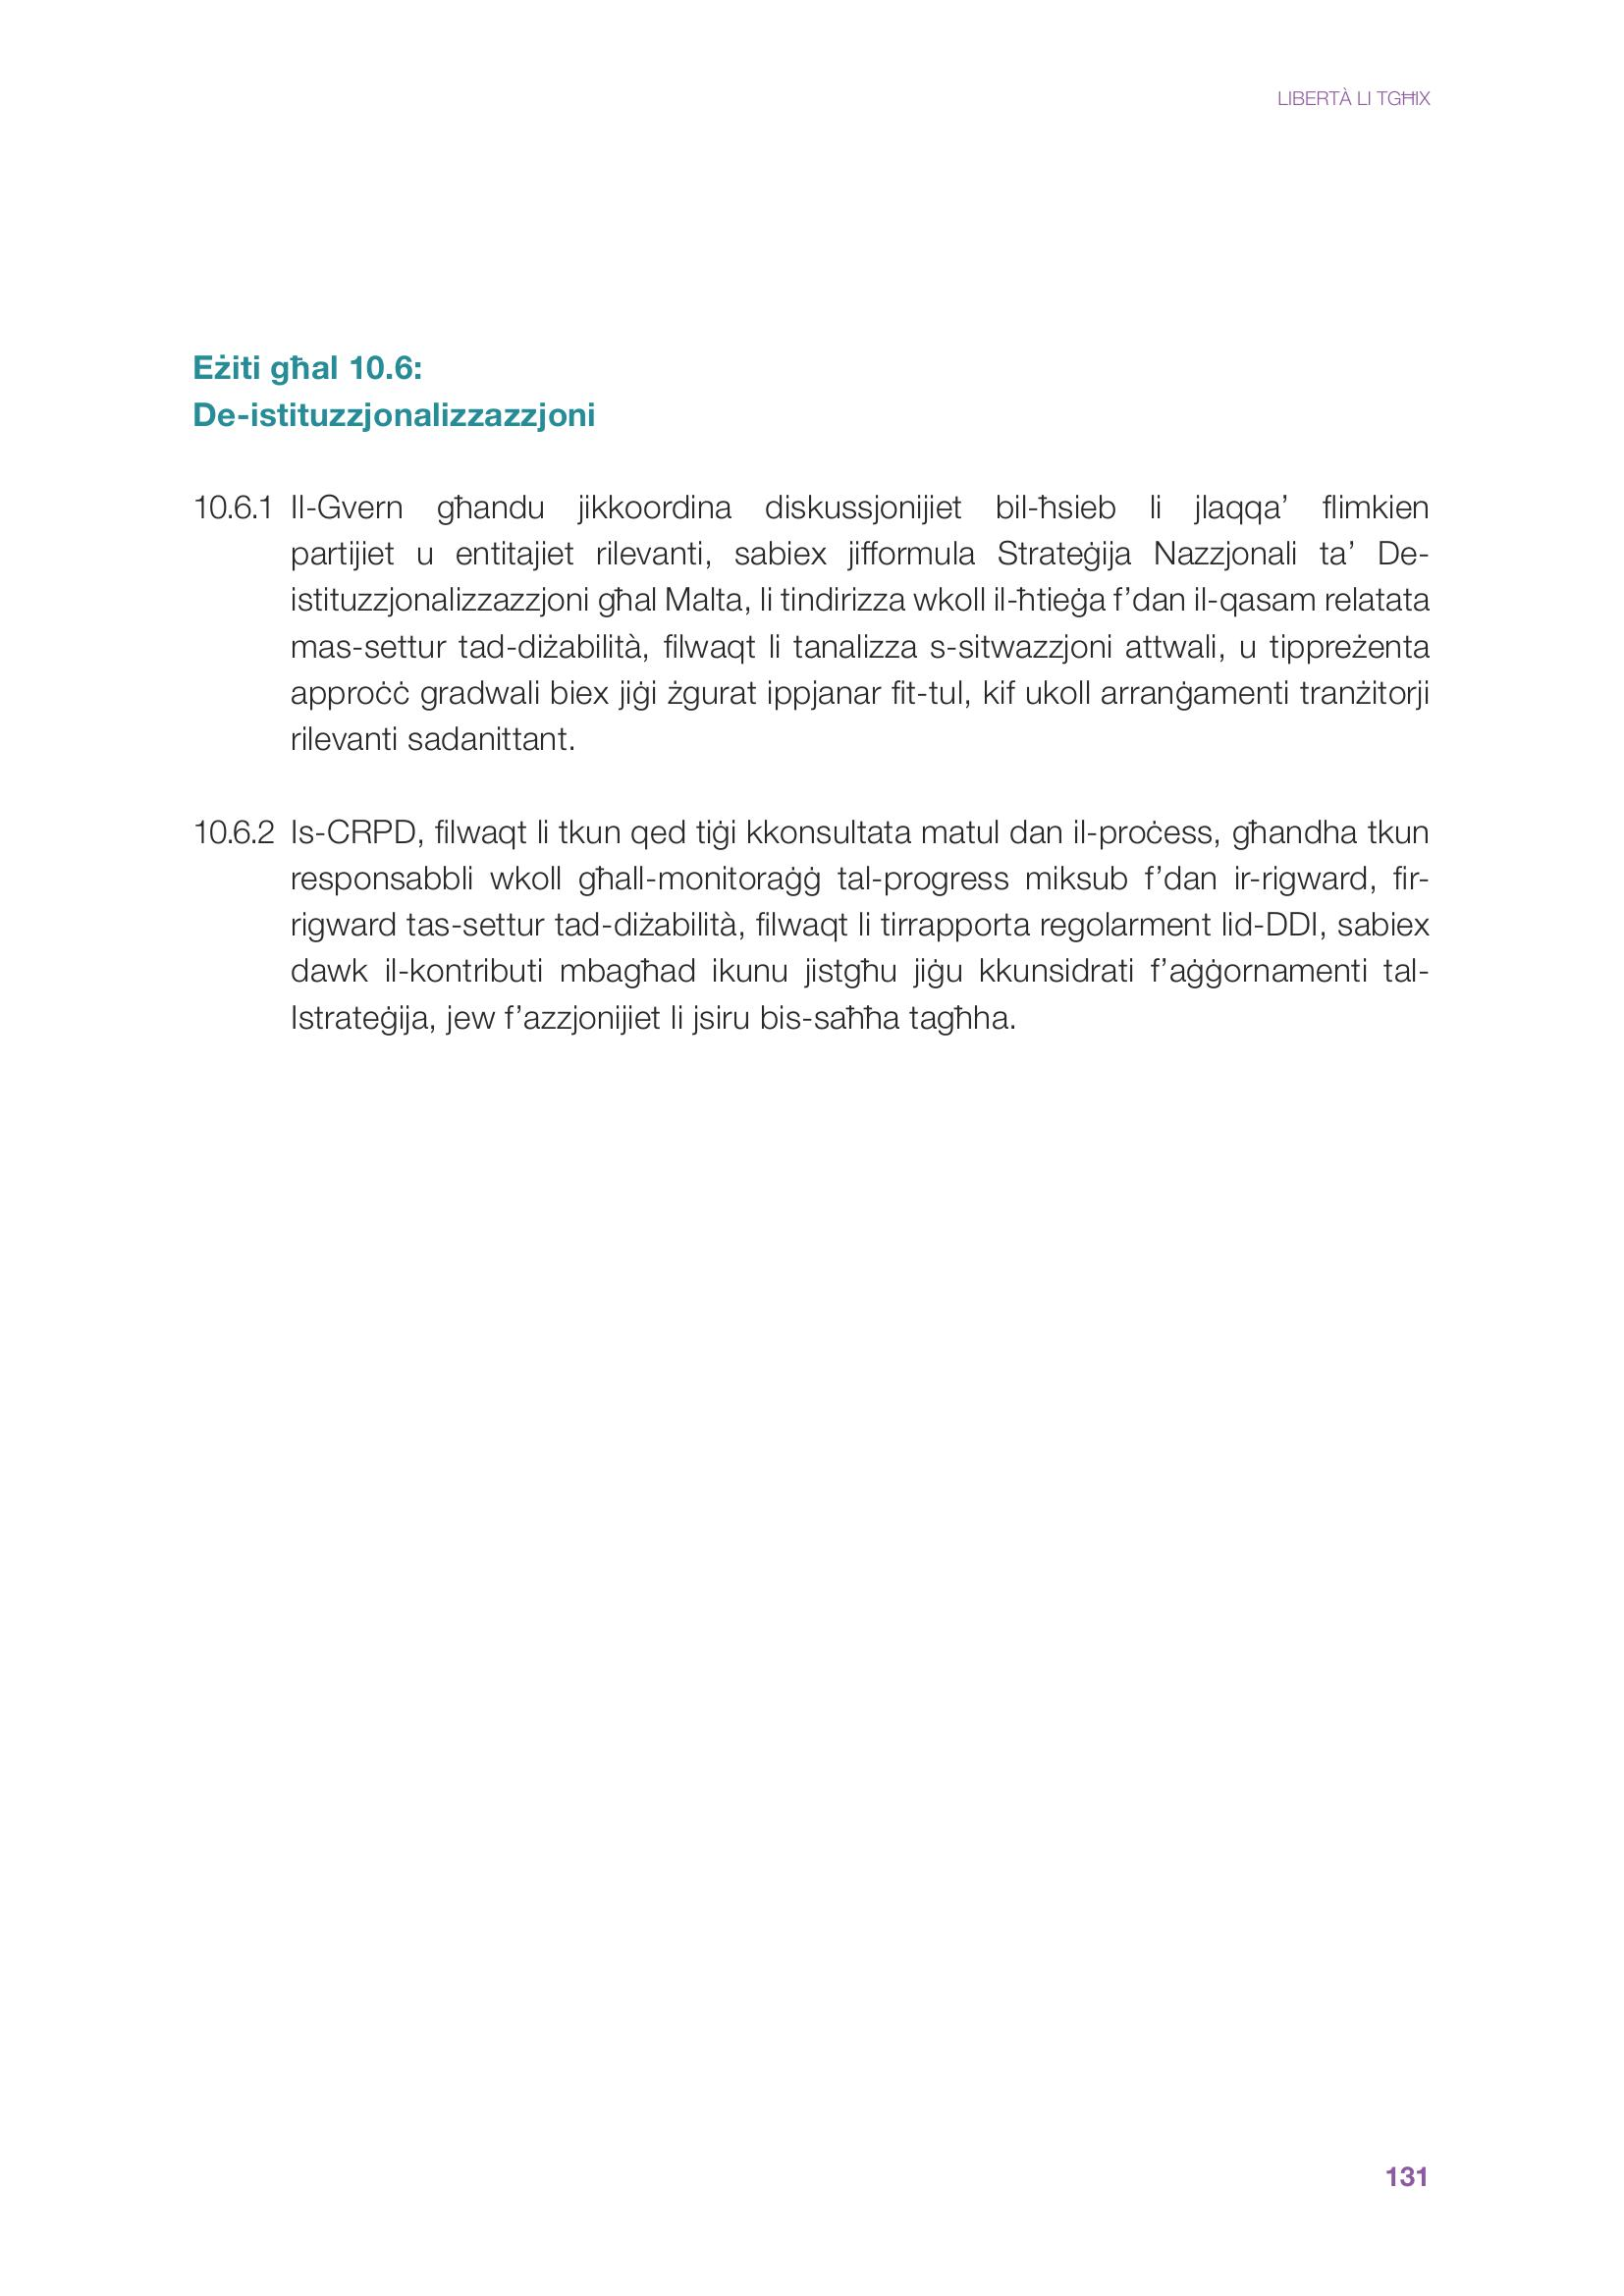text: (153, 339, 1496, 1100)
